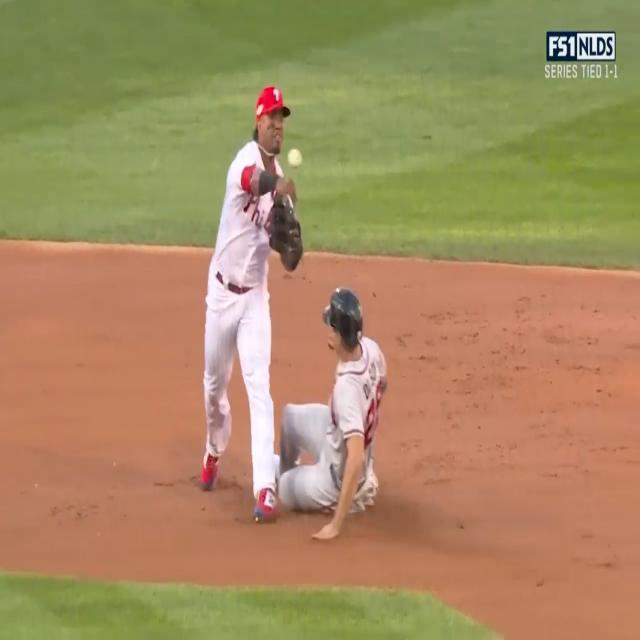baseball: (287, 147, 303, 171)
